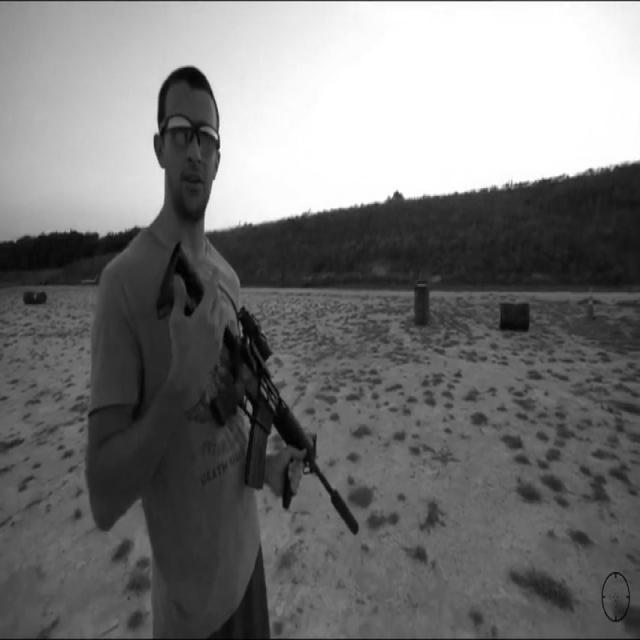Sniper: (142, 226, 372, 562)
